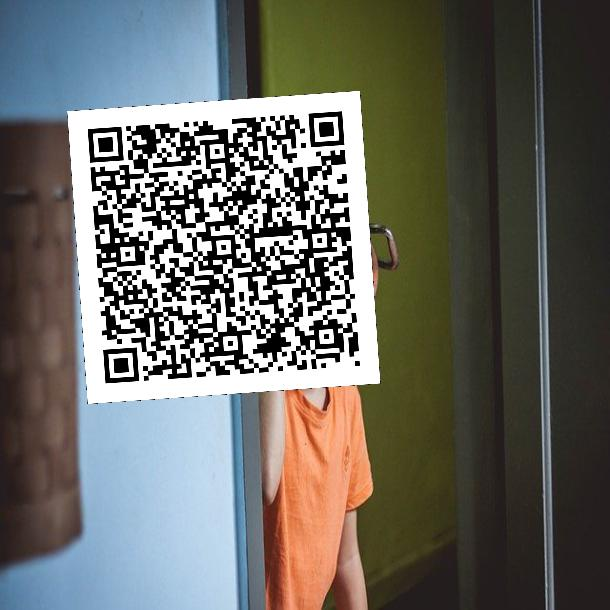qr_code: (67, 91, 380, 404)
